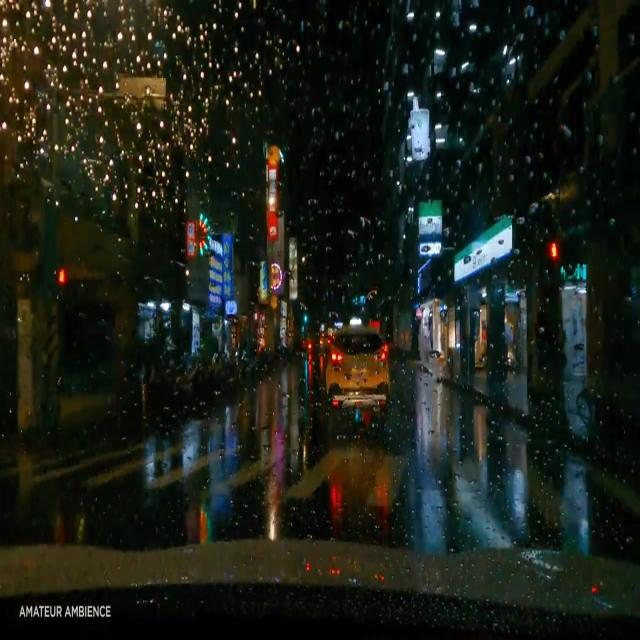Car: (326, 315, 389, 420)
